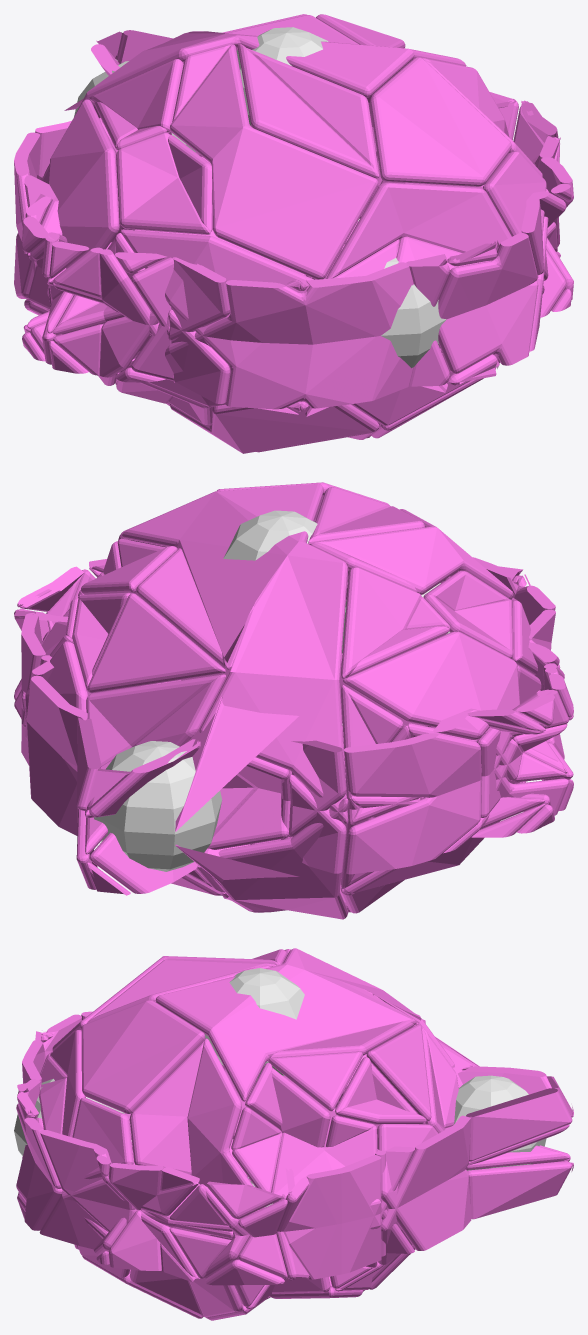
3 views of the same model, one above another, from view 1: azimuth 30°, elevation 25°; view 2: azimuth 150°, elevation 25°; view 3: azimuth 270°, elevation 25° (orthographic). The views are drawn at different scales.
Visible parts, largest first — view 1: Sphere.001, Sphere, Sphere.002; view 2: Sphere.001, Sphere.003, Sphere.002; view 3: Sphere.001, Sphere.002, Sphere.003, Sphere.
Boxes of the visible parts, left/top/right/bottom form: Sphere.001: left=14, top=14, right=573, bottom=453; Sphere: left=381, top=258, right=446, bottom=368; Sphere.002: left=236, top=27, right=328, bottom=125; Sphere.001: left=14, top=482, right=573, bottom=919; Sphere.003: left=94, top=741, right=221, bottom=871; Sphere.002: left=223, top=510, right=317, bottom=560; Sphere.001: left=16, top=948, right=573, bottom=1320; Sphere.002: left=204, top=968, right=304, bottom=1081; Sphere.003: left=453, top=1075, right=546, bottom=1170; Sphere: left=14, top=1078, right=124, bottom=1156.
Size of the model in its own units: 254 by 174 by 276.
